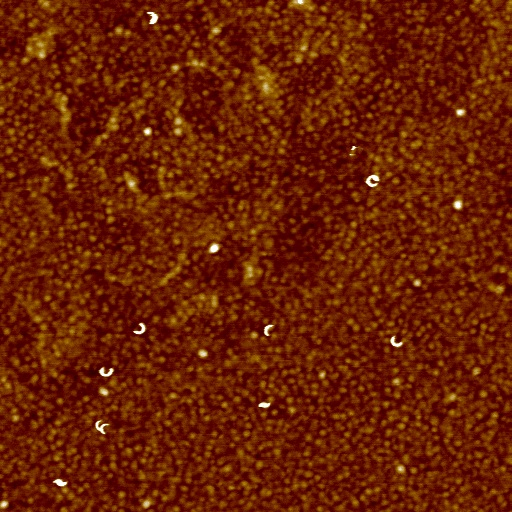-1: (256, 399, 275, 411), (207, 241, 220, 255), (54, 477, 67, 488), (456, 106, 469, 117), (452, 199, 462, 210)
2/4: (97, 364, 117, 379), (388, 333, 406, 349), (131, 319, 145, 338), (263, 322, 276, 340), (146, 9, 159, 26), (101, 421, 113, 438), (92, 417, 101, 435)
3/4: (364, 171, 380, 189)
